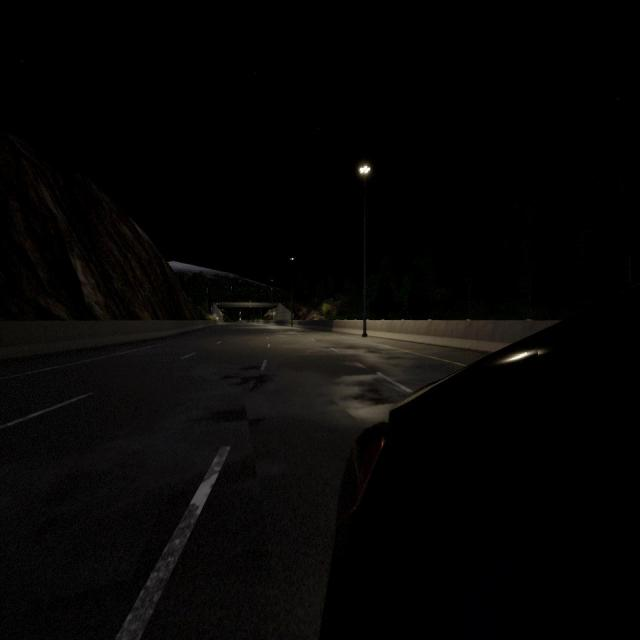Vehicle: (318, 270, 640, 640)
